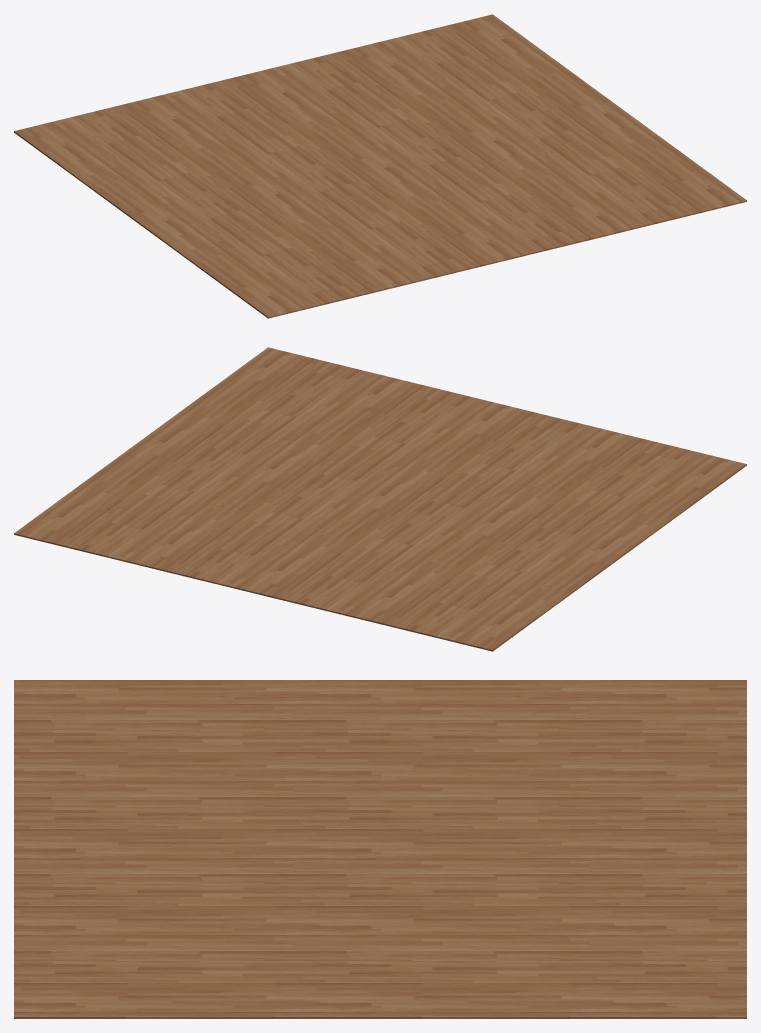
The model's file is CR02_Floor.FBX.
3 views of the same model, one above another, from view 1: azimuth 30°, elevation 25°; view 2: azimuth 150°, elevation 25°; view 3: azimuth 270°, elevation 25° (orthographic). The views are drawn at different scales.
Visible parts, largest first — view 1: CR02_Floor; view 2: CR02_Floor; view 3: CR02_Floor.
Part boxes in pixels (left/top/right/bottom): CR02_Floor: left=14, top=14, right=746, bottom=318; CR02_Floor: left=14, top=347, right=746, bottom=651; CR02_Floor: left=14, top=680, right=746, bottom=1018.
Bounding box in the file's own units: 13269 × 38.24 × 12200.
